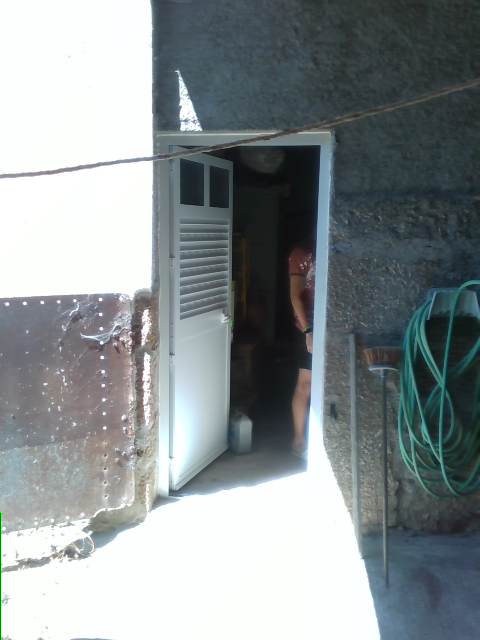semi: (155, 131, 332, 495)
